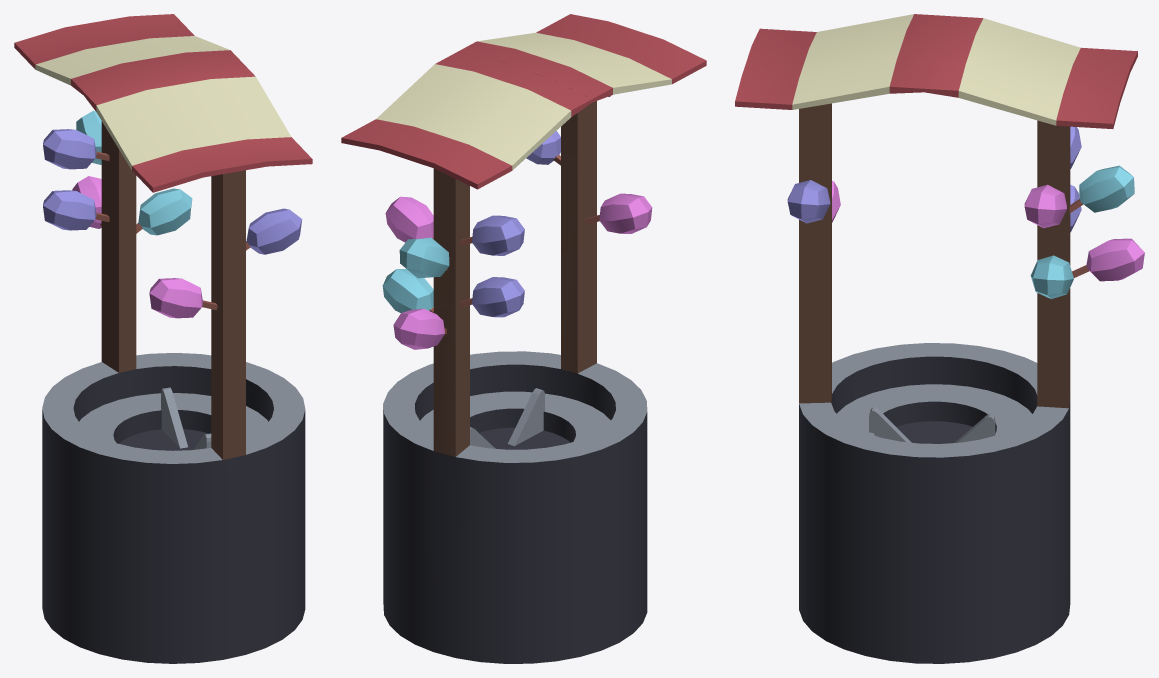
File: CarroAlgodones.glb
3 views of the same model, side by side, from view 1: azimuth 30°, elevation 25°; view 2: azimuth 150°, elevation 25°; view 3: azimuth 270°, elevation 25° (orthographic). The views are drawn at different scales.
Visible parts, largest first — view 1: Circle, Cube.006; view 2: Circle, Cube.006; view 3: Circle, Cube.006.
Boxes of the visible parts, bbox=[...] form: Circle: bbox=[14, 14, 312, 663]; Cube.006: bbox=[43, 110, 302, 318]; Circle: bbox=[341, 14, 706, 663]; Cube.006: bbox=[382, 131, 652, 349]; Circle: bbox=[735, 14, 1137, 663]; Cube.006: bbox=[787, 126, 1144, 298].
Bounding box in the file's own units: 2 × 4.51 × 3.02.
